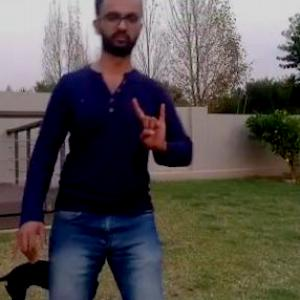takeoff-hand: (130, 92, 174, 156)
